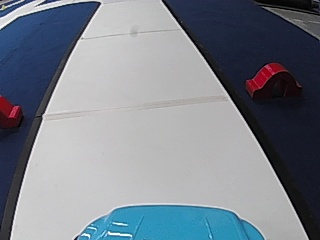bridge: (242, 59, 303, 99), (0, 93, 25, 130)
